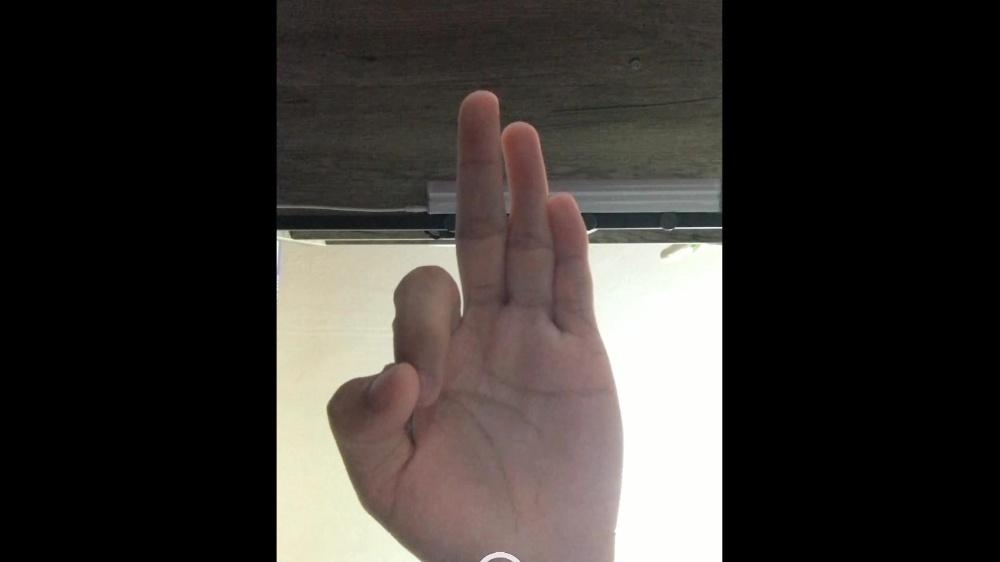f: (326, 88, 625, 541)
